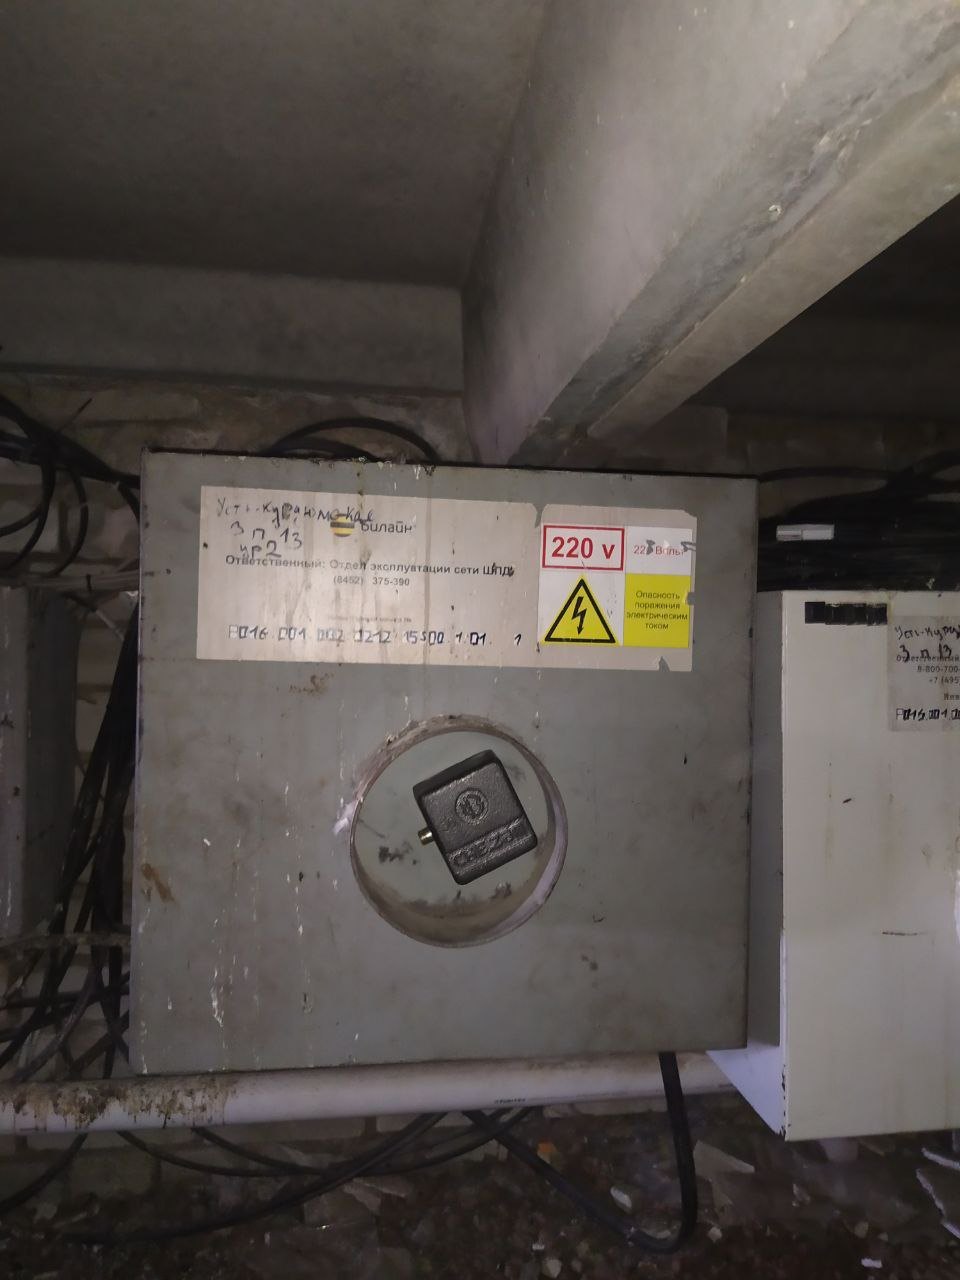shta-9: (110, 434, 770, 1091)
